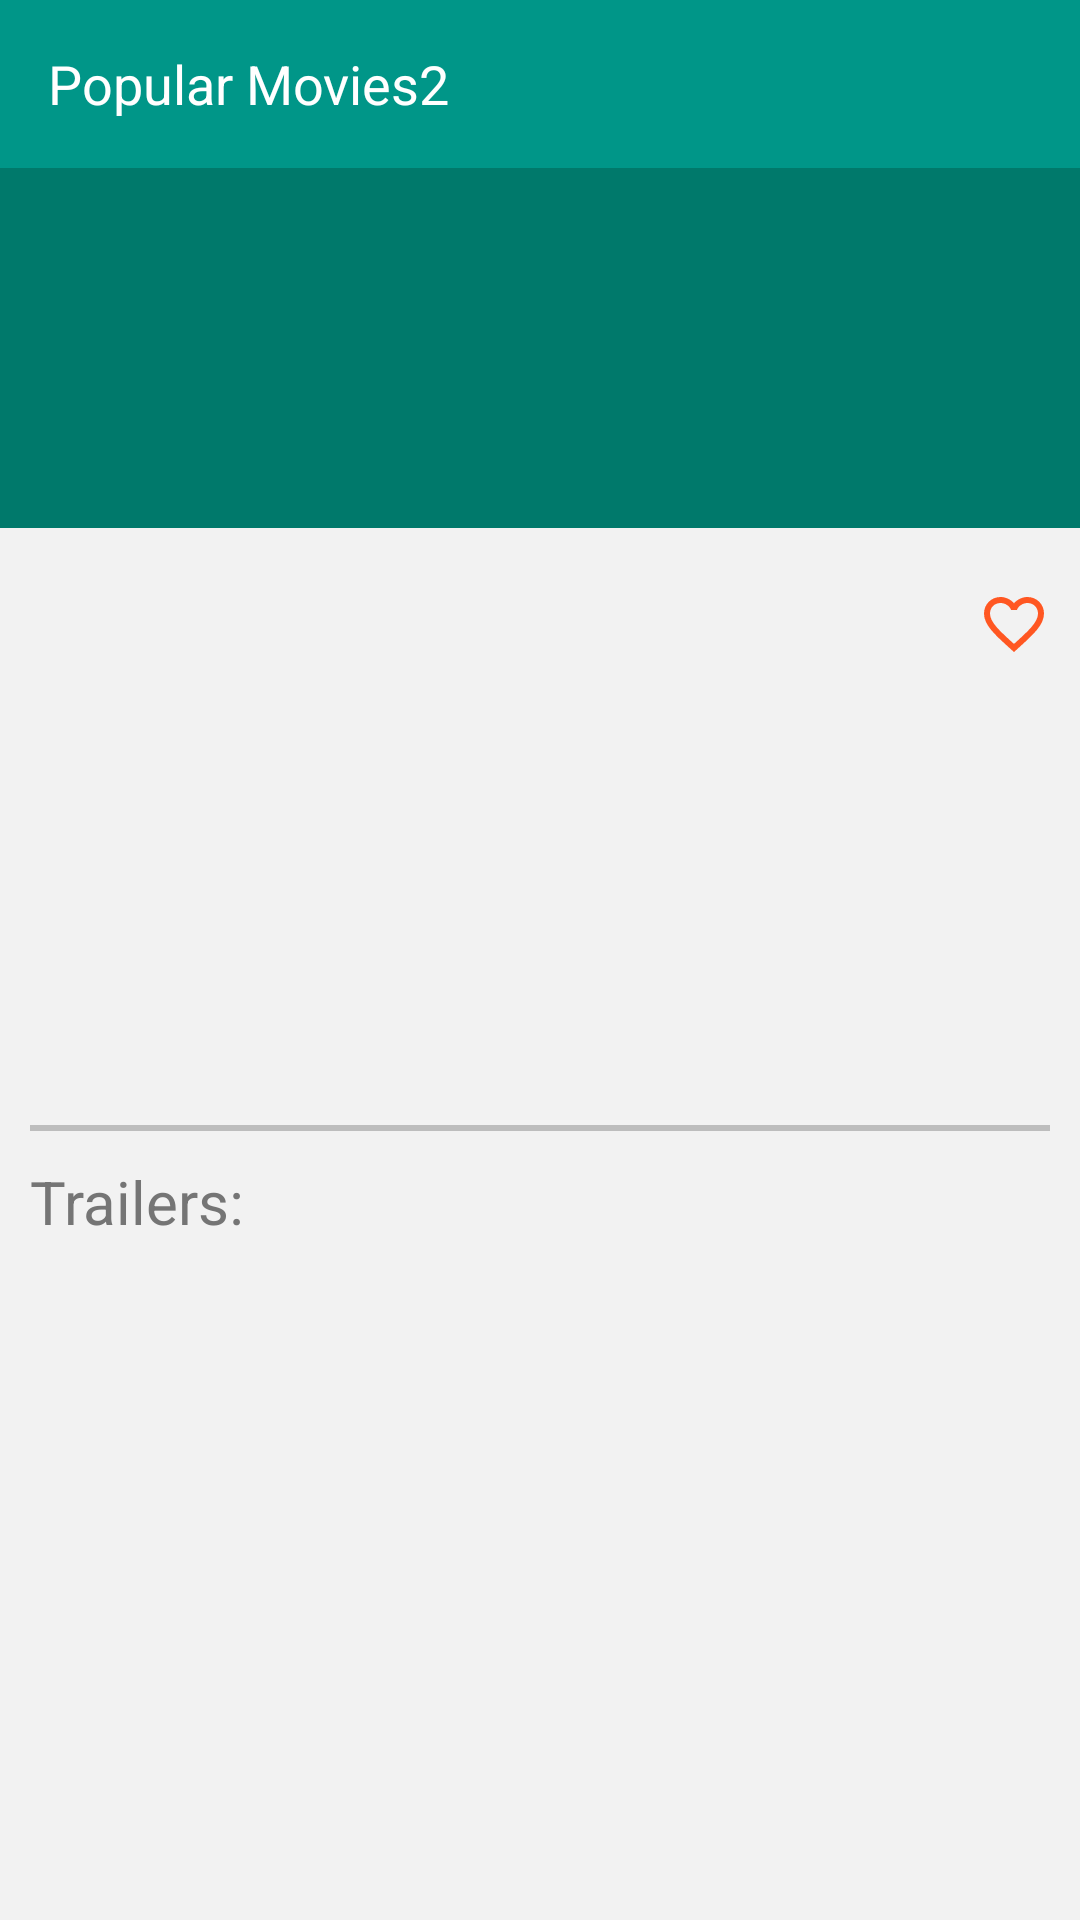

Icon click points for this 1080w x 1920h phone screenshot, format [x,y]:
favorite empty: [1014,624]
